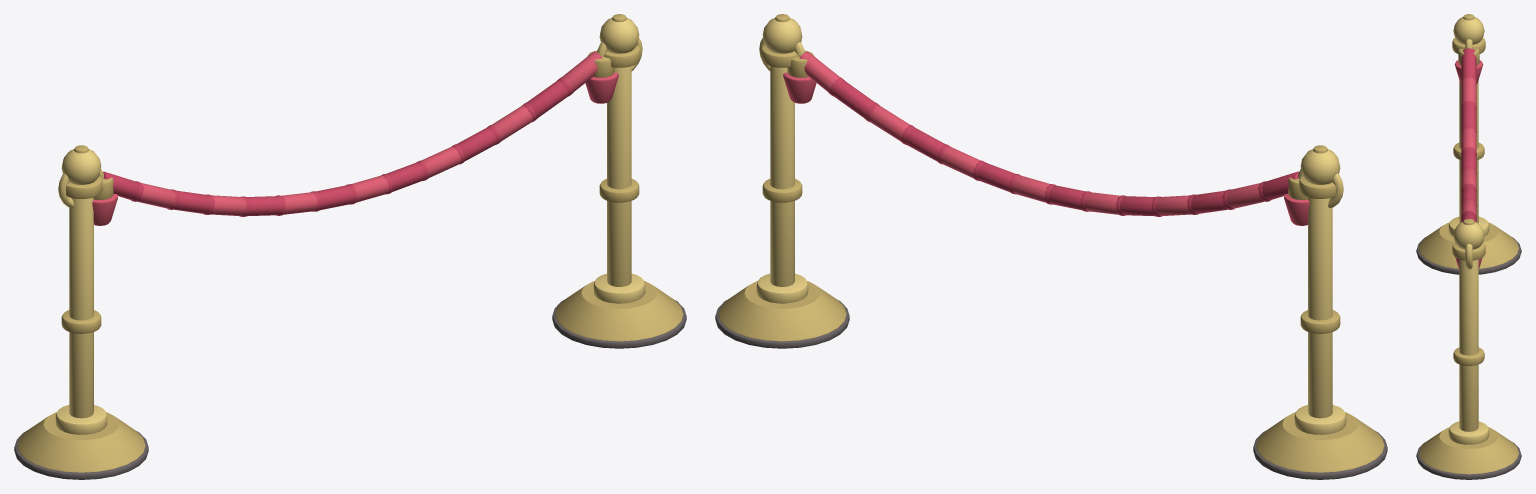
Rendered from th14_samtkordel.glb.
3 renders of one model, left to right at view 1: azimuth 30°, elevation 25°; view 2: azimuth 150°, elevation 25°; view 3: azimuth 270°, elevation 25°, orthographic. The views are drawn at different scales.
Visible parts, largest first — view 1: Cylinder.002, Cone.001, Cone, Cylinder.008, Cylinder, Cylinder.006, Sphere.001, Sphere, Cylinder.007, Cylinder.001, Cylinder.024, Cylinder.025 (+4 smaller); view 2: Cylinder.002, Cone.001, Cone, Cylinder.008, Cylinder, Cylinder.006, Sphere.001, Sphere, Cylinder.007, Cylinder.001, Cylinder.024, Cylinder.025 (+4 smaller); view 3: Cylinder.008, Cone.001, Cone, Cylinder.006, Cylinder.002, Cylinder.007, Sphere, Sphere.001, Cylinder, Cylinder.012, Cylinder.009, Cylinder.013 (+13 smaller).
Part boxes in pixels (x1=…): Cylinder.002: x1=69, y1=197, x2=93, y2=418; Cone.001: x1=555, y1=281, x2=683, y2=341; Cone: x1=17, y1=412, x2=145, y2=472; Cylinder.008: x1=607, y1=66, x2=631, y2=286; Cylinder: x1=14, y1=431, x2=148, y2=479; Cylinder.006: x1=552, y1=300, x2=686, y2=348; Sphere.001: x1=599, y1=18, x2=639, y2=53; Sphere: x1=61, y1=149, x2=101, y2=184; Cylinder.007: x1=593, y1=273, x2=645, y2=303; Cylinder.001: x1=55, y1=405, x2=107, y2=434; Cylinder.024: x1=526, y1=80, x2=568, y2=117; Cylinder.025: x1=562, y1=51, x2=602, y2=91; Cylinder.002: x1=1308, y1=197, x2=1332, y2=418; Cone.001: x1=718, y1=281, x2=846, y2=341; Cone: x1=1256, y1=412, x2=1384, y2=472; Cylinder.008: x1=770, y1=66, x2=794, y2=286; Cylinder: x1=1253, y1=431, x2=1387, y2=479; Cylinder.006: x1=715, y1=300, x2=849, y2=348; Sphere.001: x1=762, y1=18, x2=802, y2=53; Sphere: x1=1300, y1=149, x2=1340, y2=184; Cylinder.007: x1=756, y1=273, x2=808, y2=303; Cylinder.001: x1=1294, y1=405, x2=1346, y2=434; Cylinder.024: x1=833, y1=80, x2=875, y2=117; Cylinder.025: x1=799, y1=51, x2=839, y2=91; Cylinder.008: x1=1459, y1=259, x2=1478, y2=431; Cone.001: x1=1419, y1=427, x2=1518, y2=474; Cone: x1=1419, y1=222, x2=1518, y2=268; Cylinder.006: x1=1416, y1=442, x2=1521, y2=479; Cylinder.002: x1=1459, y1=80, x2=1478, y2=222; Cylinder.007: x1=1448, y1=421, x2=1489, y2=444; Sphere: x1=1453, y1=17, x2=1484, y2=44; Sphere.001: x1=1453, y1=222, x2=1484, y2=249; Cylinder: x1=1416, y1=237, x2=1521, y2=274; Cylinder.012: x1=1461, y1=48, x2=1476, y2=78; Cylinder.009: x1=1453, y1=347, x2=1484, y2=365; Cylinder.013: x1=1461, y1=77, x2=1476, y2=105.
Size of the model in its own units: 2.19 by 0.975 by 0.39.
